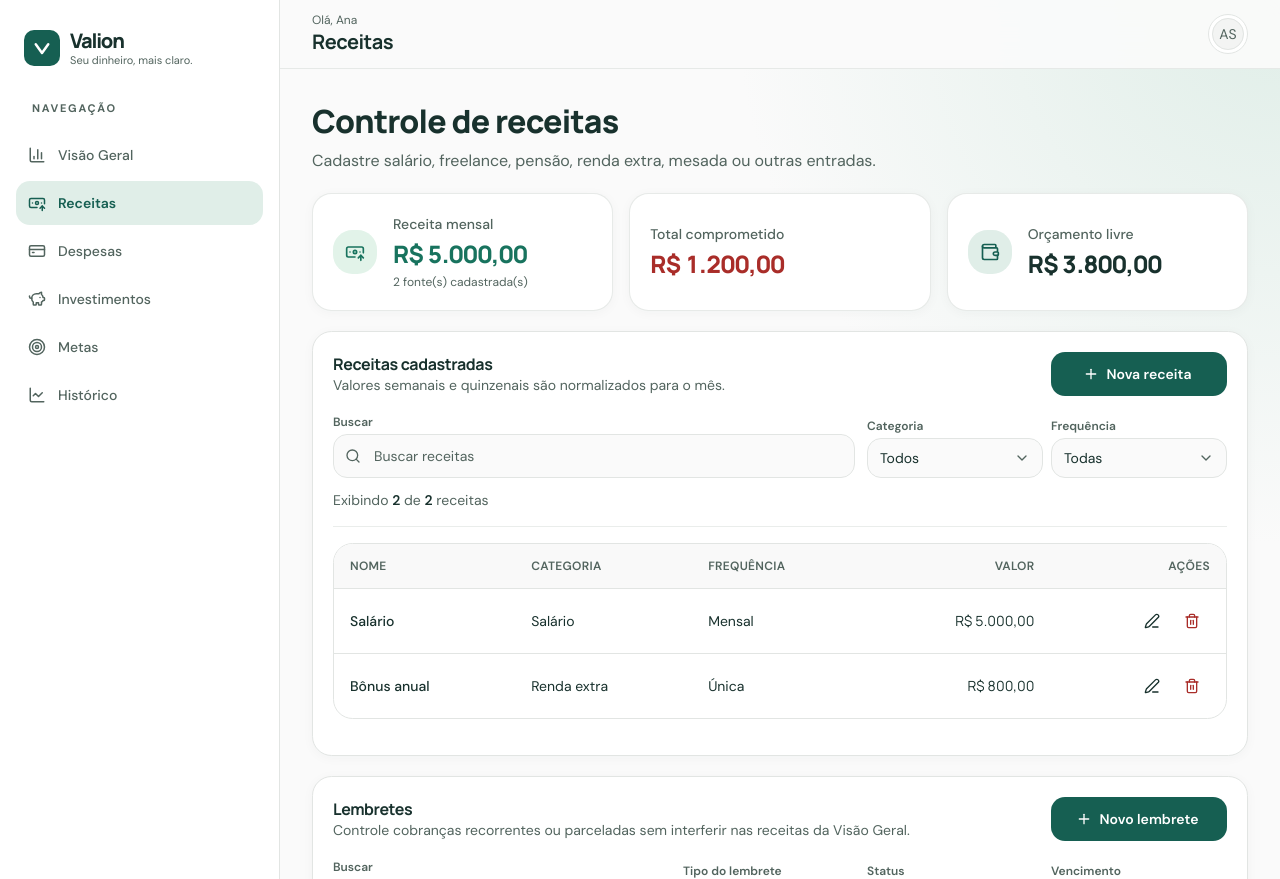
FinanceDashboard › filters incomes by frequency and lets the user clear the filter
Click the dropdown named "Frequência": x=1139, y=458 [1051, 438, 1227, 478]
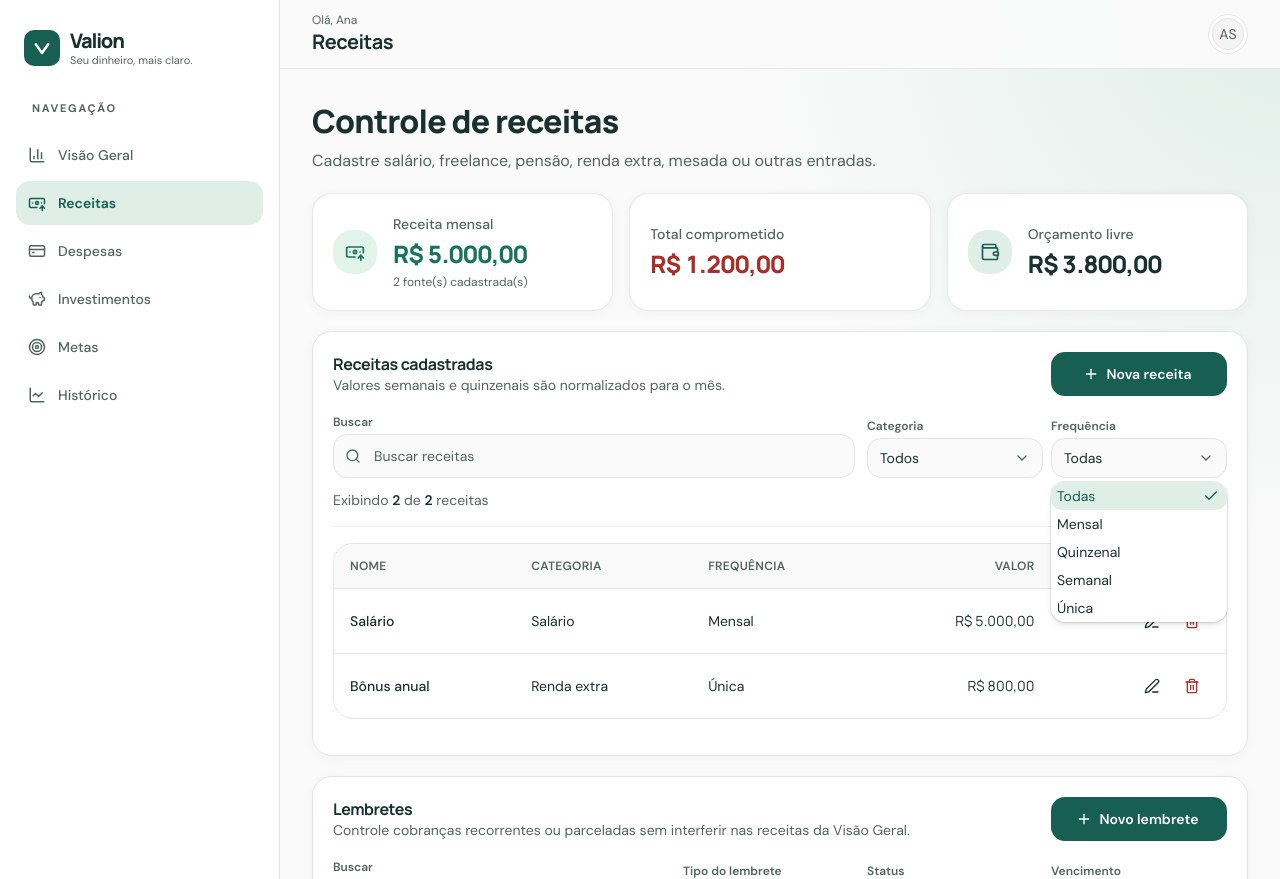
Expected: the option "Todas" is shown, [1051, 482, 1227, 510]
Click the option "Única": x=1075, y=608 [1057, 599, 1093, 617]
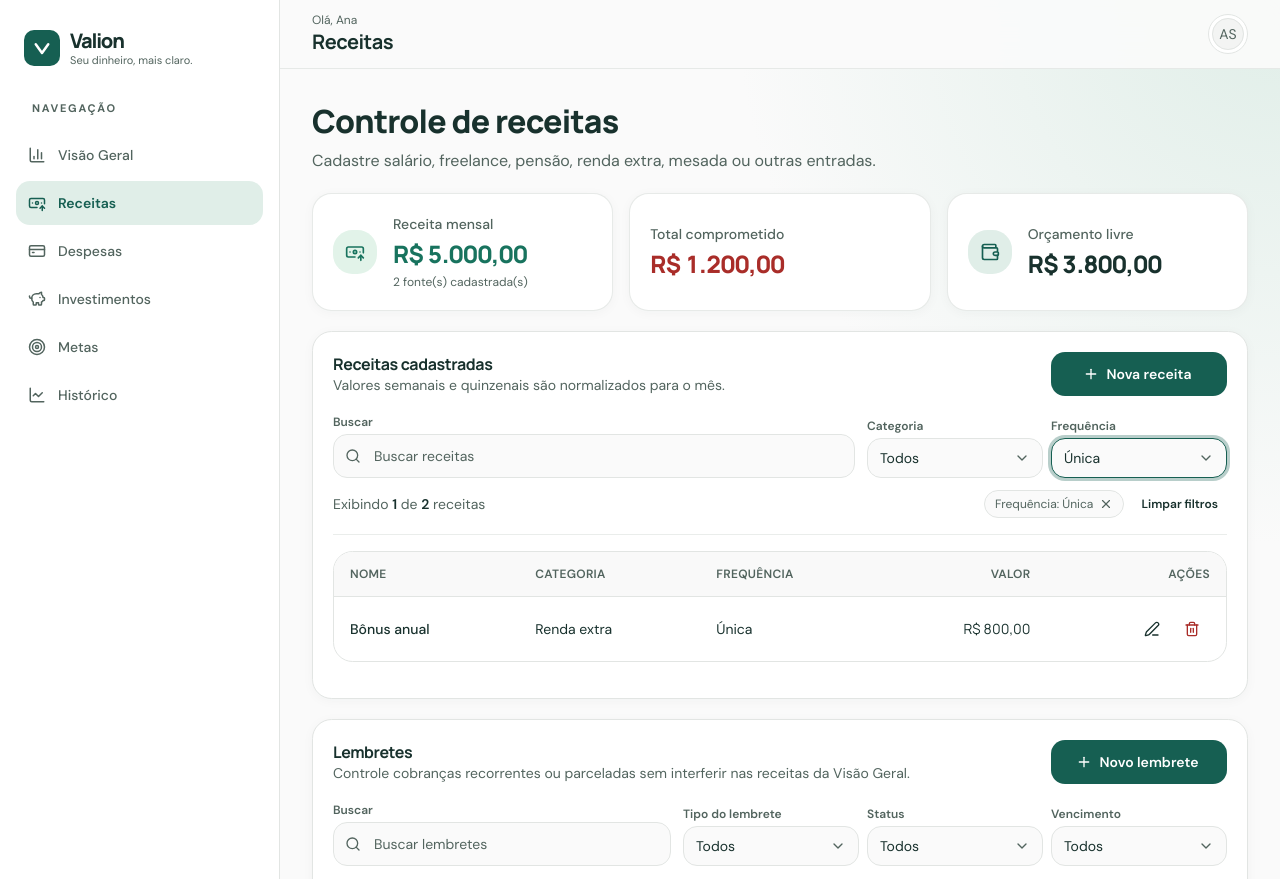
Expected: the text "Bônus anual" is shown, [350, 620, 430, 638]
Expected: the button with aria-label "Remover filtro Frequência: Única" is shown, [984, 490, 1124, 518]
Click the button "Limpar filtros": x=1180, y=504 [1132, 490, 1227, 518]
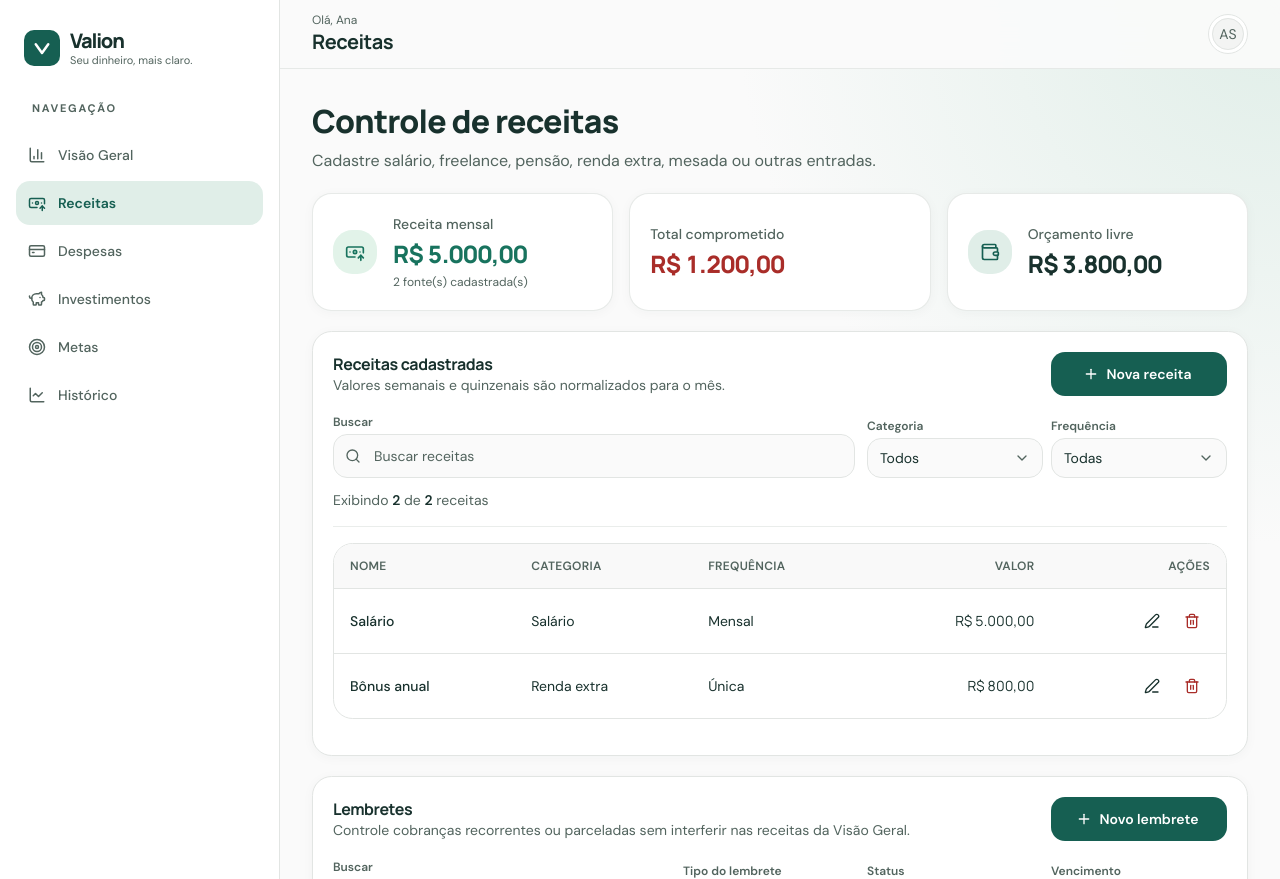
Expected: the text "Salário" is shown, [350, 612, 394, 630]
